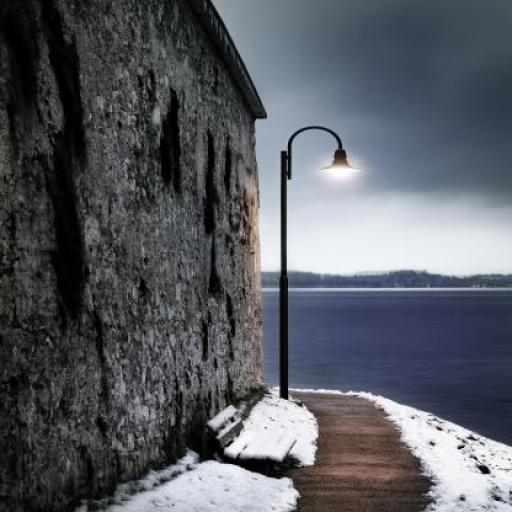street light: (277, 127, 361, 401)
